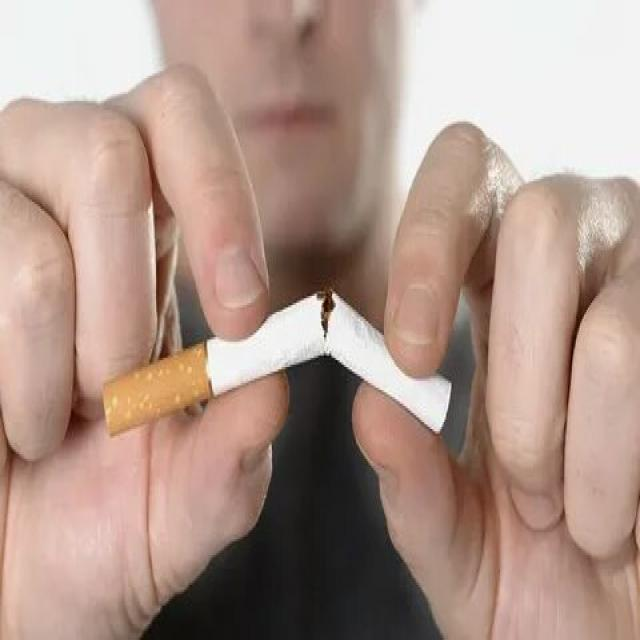cigarette: (97, 276, 452, 448)
